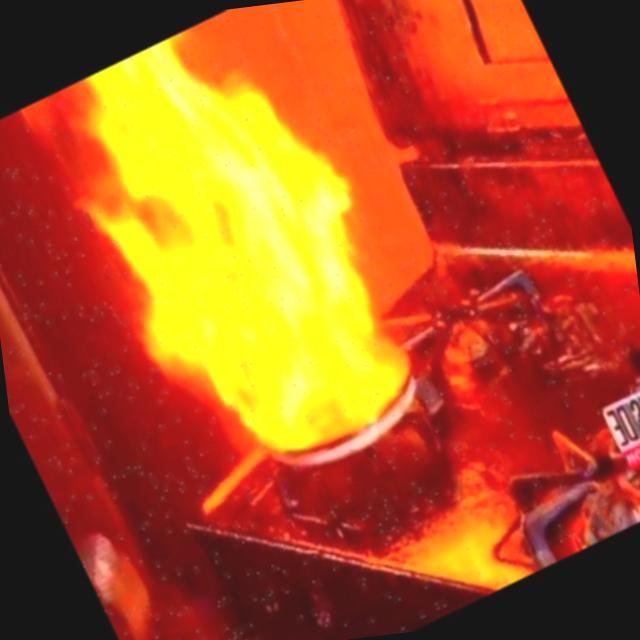fire: (5, 0, 504, 583)
